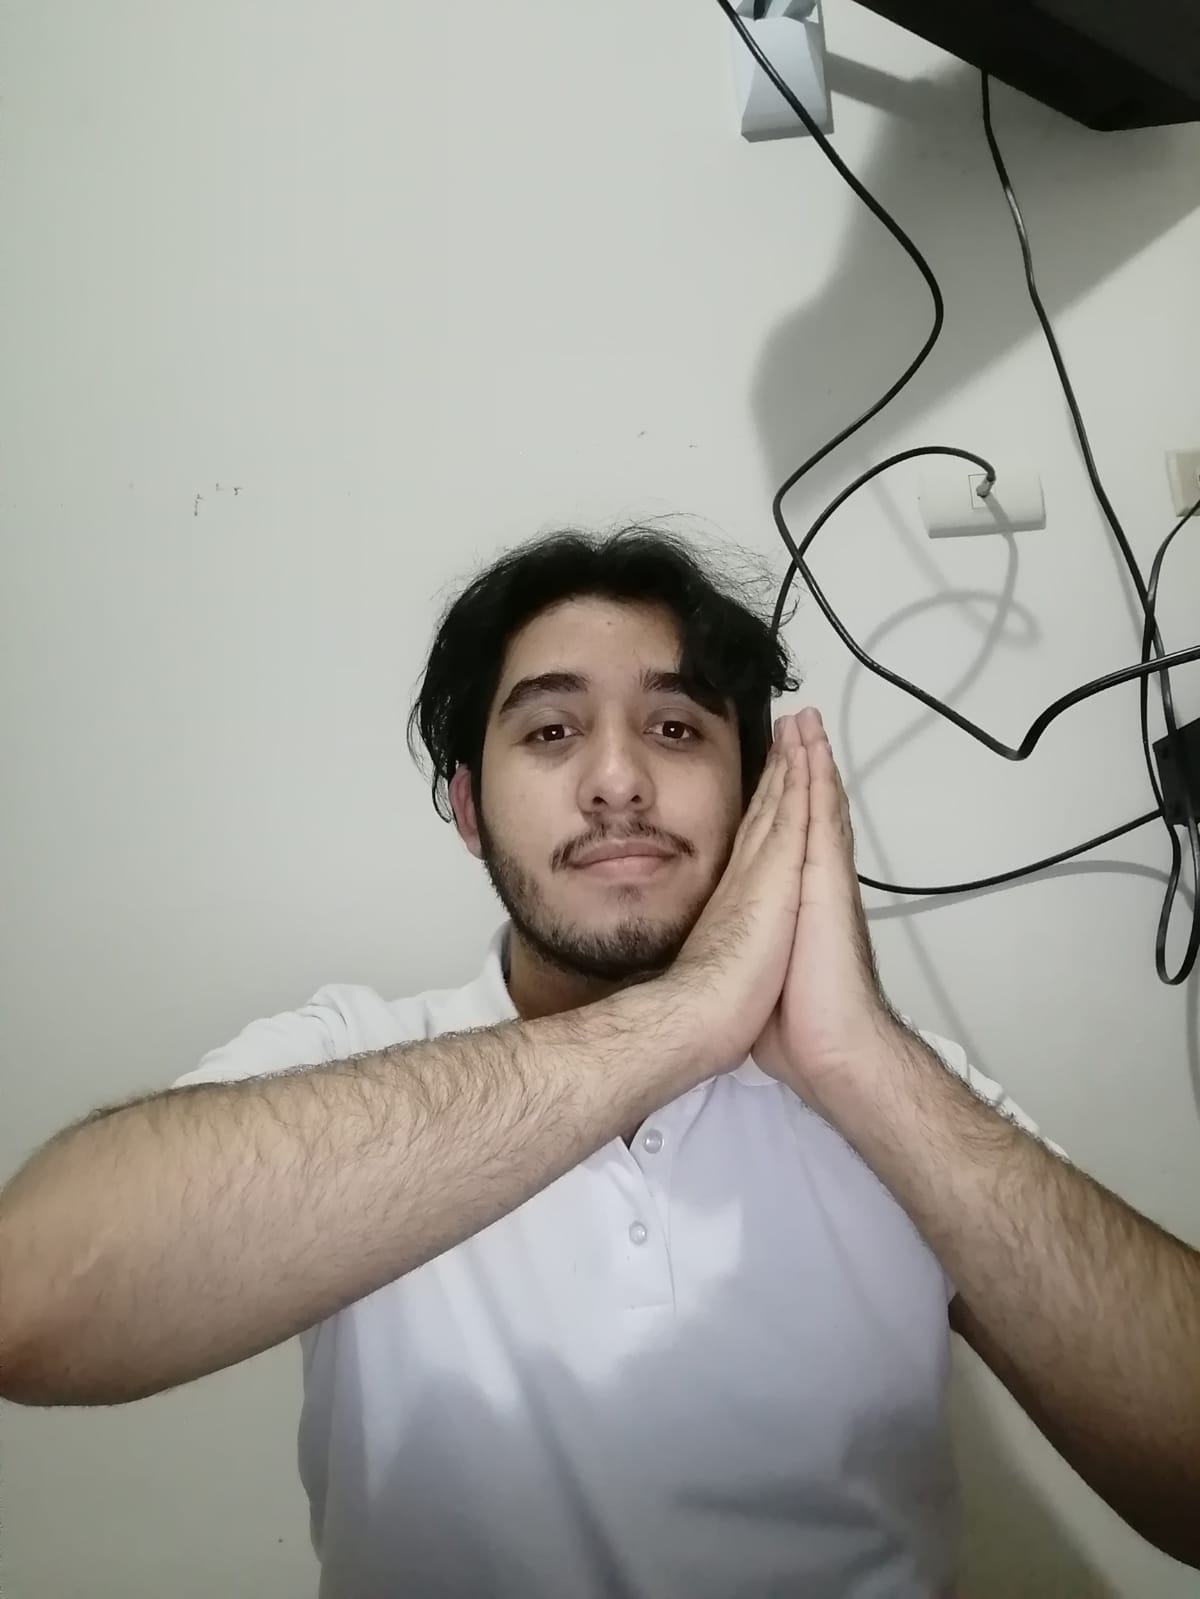Bed: (655, 696, 916, 1092)
